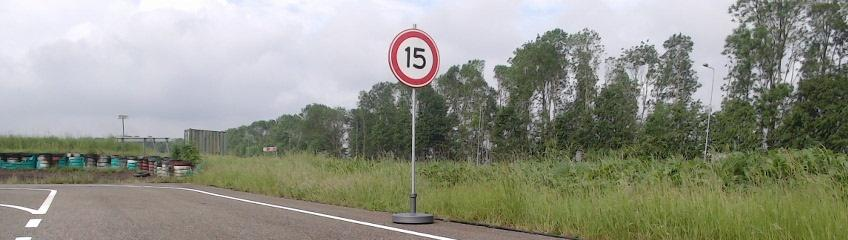Speed-limit-15km-h-: (388, 29, 440, 88)
